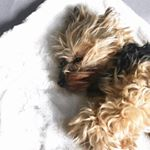puppy: (48, 3, 150, 149)
